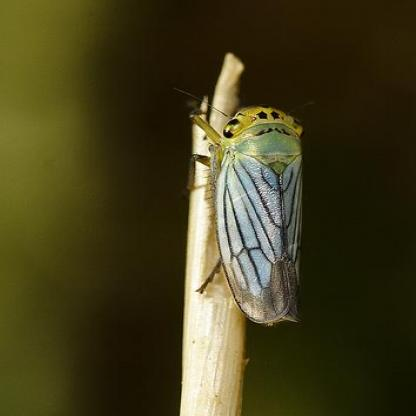Green-Leafhopper: (178, 96, 314, 335)
